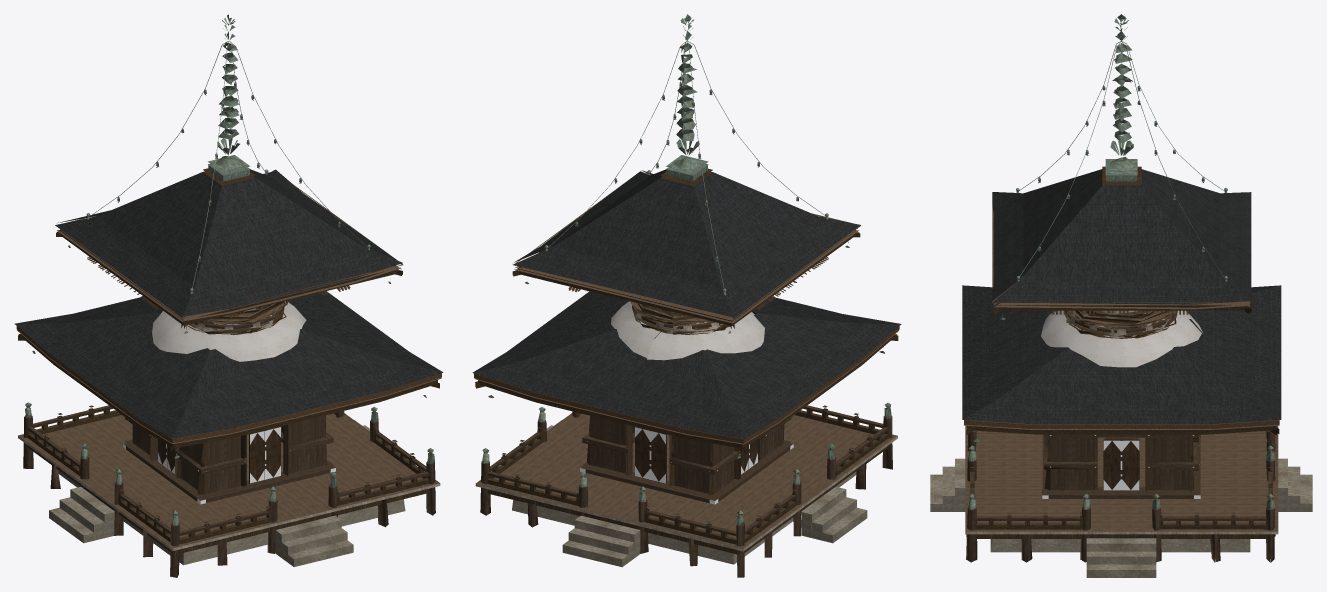
Rendered from Pagoda_Tahoto_14m.gltf.
The picture shows the model from 3 angles, left to right: view 1: azimuth 30°, elevation 25°; view 2: azimuth 150°, elevation 25°; view 3: azimuth 270°, elevation 25°; orthographic projection.
Visible parts, largest first — view 1: Base_LOD0.002, Roof1_LOD0.002, Roof2_LOD0.002, Wall1_LOD0.002, Wall2_LOD0.002, Sorin_LOD0.002, Chainbell_LOD0.002, Door_SR_LOD0.002, Door_SL_LOD0.002; view 2: Base_LOD0.002, Roof1_LOD0.002, Roof2_LOD0.002, Wall1_LOD0.002, Wall2_LOD0.002, Sorin_LOD0.002, Chainbell_LOD0.002, Door_NR_LOD0.002, Door_NL_LOD0.002; view 3: Roof1_LOD0.002, Roof2_LOD0.002, Base_LOD0.002, Wall1_LOD0.002, Wall2_LOD0.002, Sorin_LOD0.002, Chainbell_LOD0.002, Door_ER_LOD0.002, Door_EL_LOD0.002.
Boxes of the visible parts, <box> form: Base_LOD0.002: <box>18,402,440,577</box>; Roof1_LOD0.002: <box>14,292,443,448</box>; Roof2_LOD0.002: <box>55,168,402,325</box>; Wall1_LOD0.002: <box>18,334,439,504</box>; Wall2_LOD0.002: <box>56,232,402,361</box>; Sorin_LOD0.002: <box>208,14,250,181</box>; Chainbell_LOD0.002: <box>86,41,370,294</box>; Door_SR_LOD0.002: <box>264,426,280,480</box>; Door_SL_LOD0.002: <box>249,430,264,483</box>; Base_LOD0.002: <box>475,402,897,577</box>; Roof1_LOD0.002: <box>472,291,901,448</box>; Roof2_LOD0.002: <box>512,168,860,325</box>; Wall1_LOD0.002: <box>475,334,898,504</box>; Wall2_LOD0.002: <box>512,232,860,360</box>; Sorin_LOD0.002: <box>666,14,708,181</box>; Chainbell_LOD0.002: <box>544,40,828,295</box>; Door_NR_LOD0.002: <box>649,430,666,483</box>; Door_NL_LOD0.002: <box>635,426,649,479</box>; Roof1_LOD0.002: <box>962,285,1281,434</box>; Roof2_LOD0.002: <box>992,166,1251,314</box>; Base_LOD0.002: <box>930,425,1312,577</box>; Wall1_LOD0.002: <box>966,428,1279,498</box>; Wall2_LOD0.002: <box>992,307,1251,367</box>; Sorin_LOD0.002: <box>1105,14,1137,181</box>; Chainbell_LOD0.002: <box>1016,41,1227,281</box>; Door_ER_LOD0.002: <box>1120,439,1139,490</box>; Door_EL_LOD0.002: <box>1103,439,1121,490</box>.
Size of the model in its own units: 10.76 by 15.02 by 10.77.
Materials: 12 (11 with a texture image).
